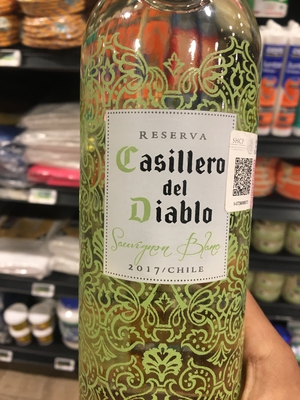casillero del diablo sauvignon blanc: (73, 6, 263, 394)
